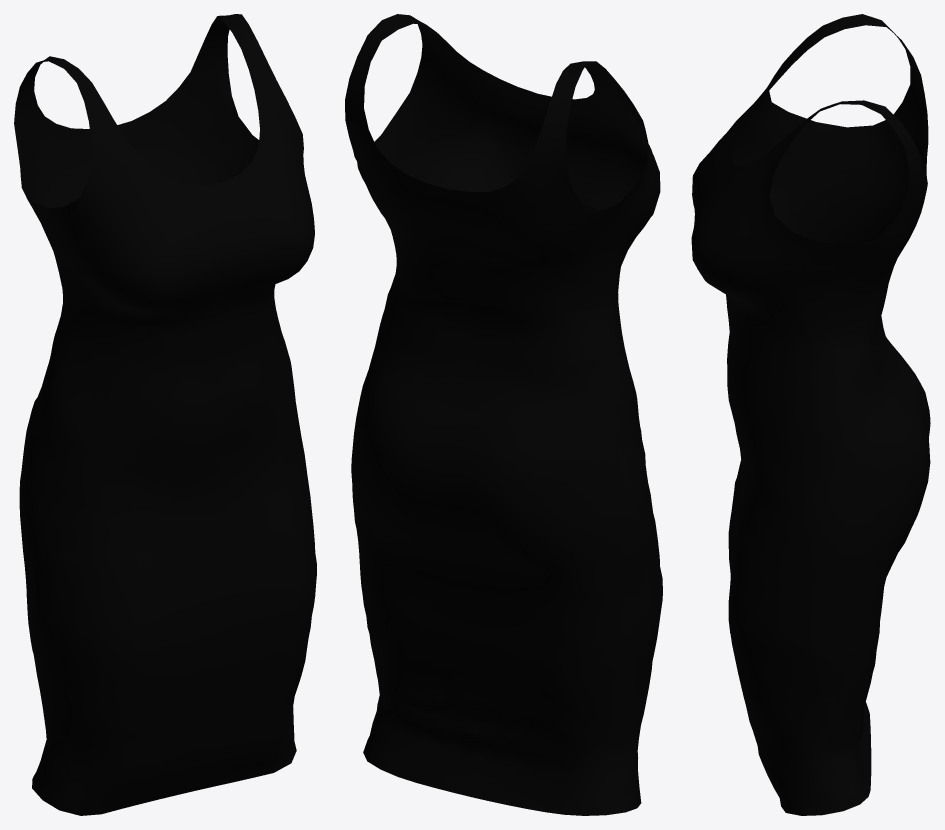
File: medium_blackBodycon_noinside.obj
3 views of the same model, side by side, from view 1: azimuth 30°, elevation 25°; view 2: azimuth 150°, elevation 25°; view 3: azimuth 270°, elevation 25° (orthographic). The views are drawn at different scales.
Parts seen in each view (by area): view 1: medium_blackBodycon:polySurface1; view 2: medium_blackBodycon:polySurface1; view 3: medium_blackBodycon:polySurface1.
Boxes of the visible parts, x1,y1,x2,y2 form: medium_blackBodycon:polySurface1: (14,14,316,815); medium_blackBodycon:polySurface1: (345,14,662,815); medium_blackBodycon:polySurface1: (691,14,930,815).
Size of the model in its own units: 3.7 by 9.52 by 2.92.
Materials: 2 (2 with a texture image).
